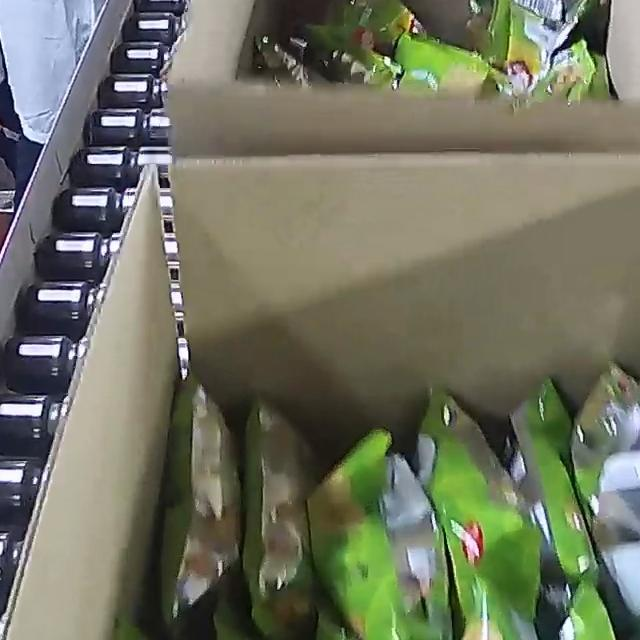yogurt: (115, 324, 640, 640), (272, 0, 611, 108)
